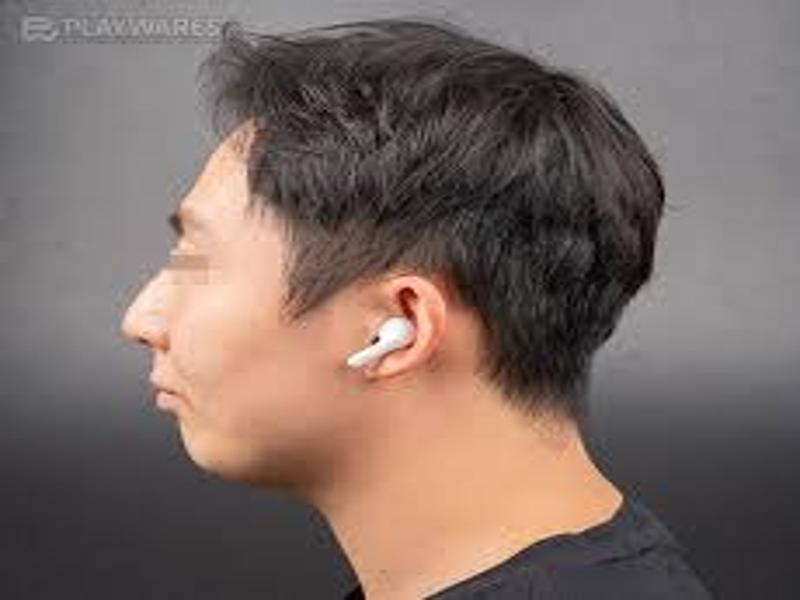headphone: (347, 314, 419, 370)
